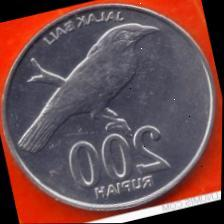coin_200_e2003: (2, 2, 216, 212)
